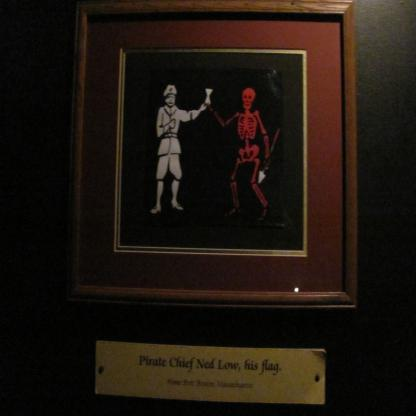Picture-frame: (65, 1, 366, 317)
